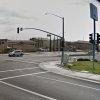Traffic light: (88, 30, 100, 53)
